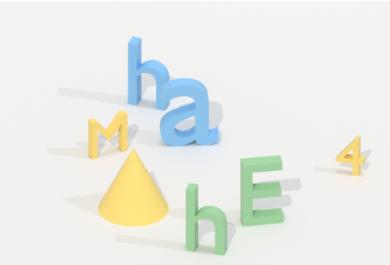4: (332, 131, 369, 181)
E: (237, 153, 288, 231)
M: (84, 108, 131, 160)
a: (155, 75, 221, 151)
h: (96, 146, 173, 230), (123, 31, 172, 111), (182, 178, 231, 258)
